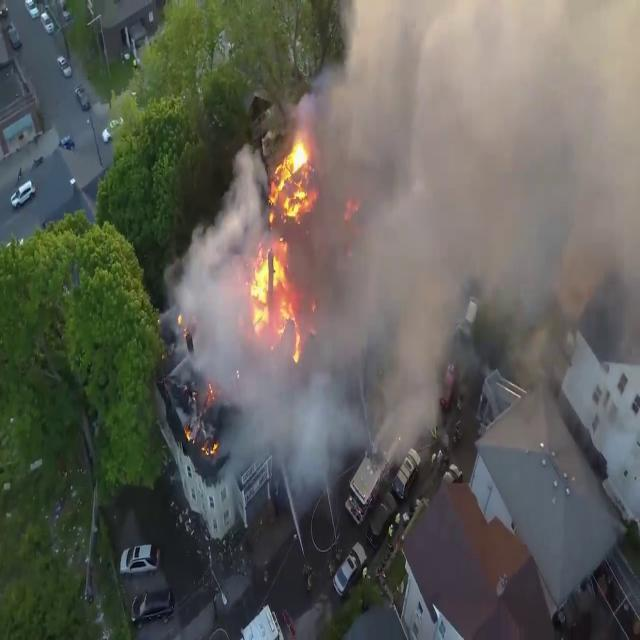Fire: (246, 130, 318, 352)
Smoke: (282, 0, 640, 478)
